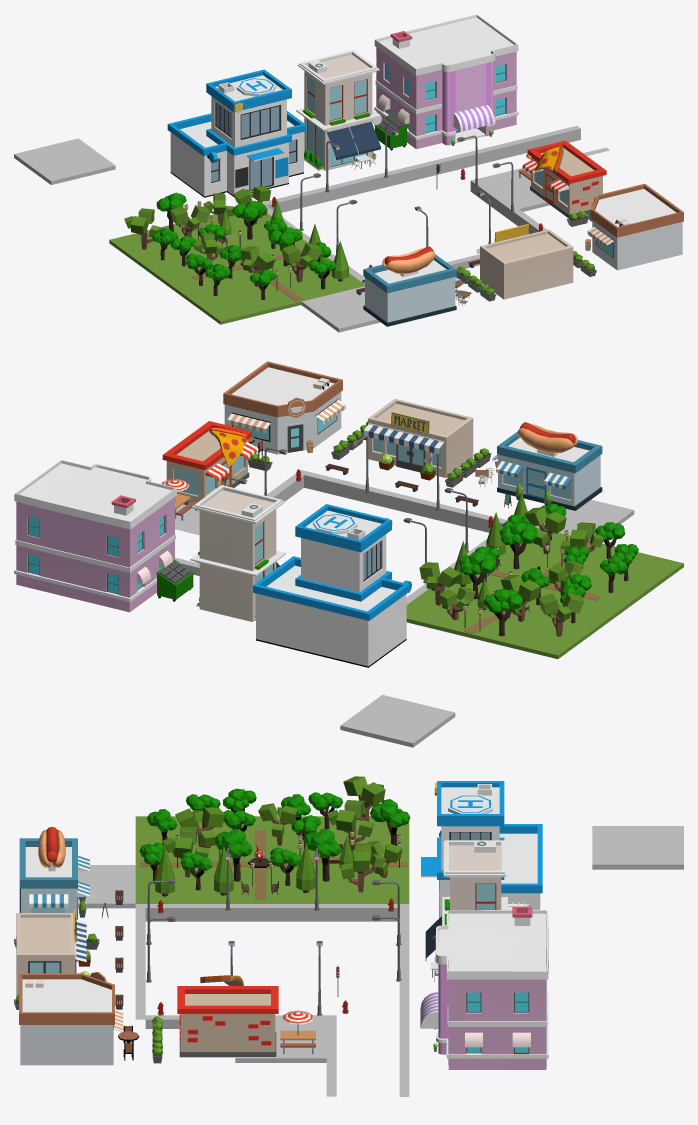
Rendered from BGR.fbx.
3 views of the same model, one above another, from view 1: azimuth 30°, elevation 25°; view 2: azimuth 150°, elevation 25°; view 3: azimuth 270°, elevation 25° (orthographic). The views are drawn at different scales.
Parts seen in each view (by area): view 1: pizzaria_Cam_Nhat_0, police station_materiale base_0, Cube.007, coffe house_Do_do_0, Cube.006, Logo_Colore_0, Plane.010_Multicolor_0, Cube.019_Multicolor_0, Home_Colore_0, Plane.117_Marcapiede_0.001, Plane.117_Marcapiede_0, Plane.117_Marcapiede_0.002 (+11 smaller); view 2: pizzaria_Cam_Nhat_0, police station_materiale base_0, Cube.007, coffe house_Do_do_0, Logo_Colore_0, Plane.010_Multicolor_0, Cube.019_Multicolor_0, Home_Colore_0, Cube.006, Plane.117_Marcapiede_0.001, Plane.117_Marcapiede_0, Dumpster.003_Colore_0 (+12 smaller); view 3: pizzaria_Cam_Nhat_0, Cube.007, Logo_Colore_0, Cube.006, Home_Colore_0, police station_materiale base_0, Plane.010_Multicolor_0, coffe house_Do_do_0, Cube.019_Multicolor_0, Plane.117_Marcapiede_0.001, Plane.117_Marcapiede_0, Plane.117_Marcapiede_0.002 (+20 smaller).
Part boxes in pixels (x1,y1,x2,y2): pizzaria_Cam_Nhat_0: (374,14,518,149); police station_materiale base_0: (167,69,306,197); Cube.007: (109,213,364,324); coffe house_Do_do_0: (296,50,381,170); Cube.006: (262,126,609,284); Logo_Colore_0: (585,183,683,270); Plane.010_Multicolor_0: (362,246,471,326); Cube.019_Multicolor_0: (476,224,573,299); Home_Colore_0: (518,140,606,218); Plane.117_Marcapiede_0.001: (14,138,115,184); Plane.117_Marcapiede_0: (301,286,380,332); Plane.117_Marcapiede_0.002: (482,171,549,211); pizzaria_Cam_Nhat_0: (14,460,176,612); police station_materiale base_0: (253,504,411,667); Cube.007: (406,527,683,659); coffe house_Do_do_0: (190,485,286,621); Logo_Colore_0: (223,361,345,456); Plane.010_Multicolor_0: (475,422,602,510); Cube.019_Multicolor_0: (363,398,473,480); Home_Colore_0: (162,421,258,520); Cube.006: (175,470,507,604); Plane.117_Marcapiede_0.001: (340,695,455,747); Plane.117_Marcapiede_0: (535,499,634,540); Dumpster.003_Colore_0: (156,559,193,601); pizzaria_Cam_Nhat_0: (420,906,548,1069); Cube.007: (135,816,409,903); Logo_Colore_0: (19,972,139,1065); Cube.006: (135,904,409,1096); Home_Colore_0: (177,975,315,1057); police station_materiale base_0: (421,781,542,918); Plane.010_Multicolor_0: (19,827,108,919); coffe house_Do_do_0: (425,840,507,981); Cube.019_Multicolor_0: (16,909,90,996); Plane.117_Marcapiede_0.001: (592,826,683,869); Plane.117_Marcapiede_0: (78,865,135,908); Plane.117_Marcapiede_0.002: (235,1019,326,1062).
Size of the model in its own units: 6256 by 1365 by 6299.
